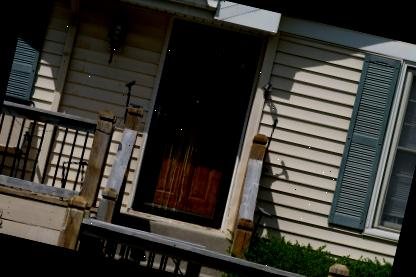door: (122, 10, 276, 238)
